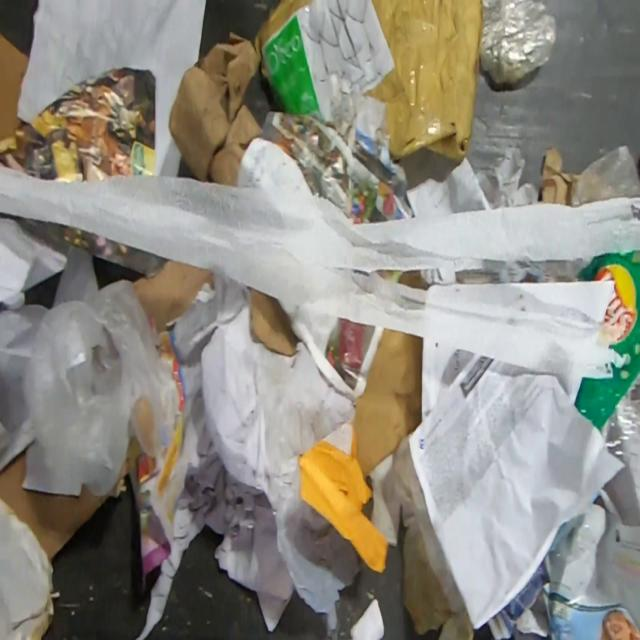cardboard: (252, 0, 482, 165), (167, 28, 266, 188), (0, 451, 110, 560), (352, 326, 423, 475), (0, 497, 61, 640), (132, 259, 214, 335), (0, 32, 31, 154), (249, 288, 302, 356), (537, 146, 580, 207), (398, 269, 427, 291)
soft_plastic: (0, 243, 182, 496), (573, 248, 640, 431), (477, 0, 557, 84), (571, 143, 640, 207), (601, 385, 640, 464)
